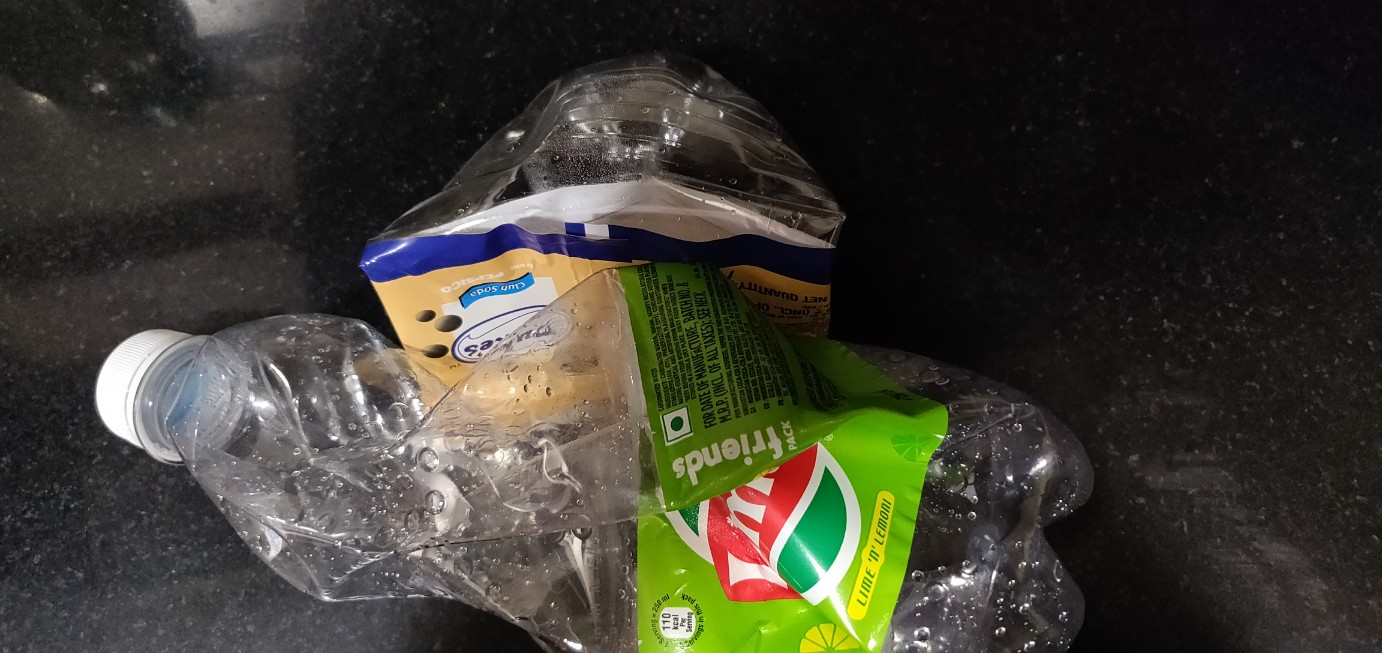Electronics: (326, 20, 929, 653), (54, 295, 1106, 653)
